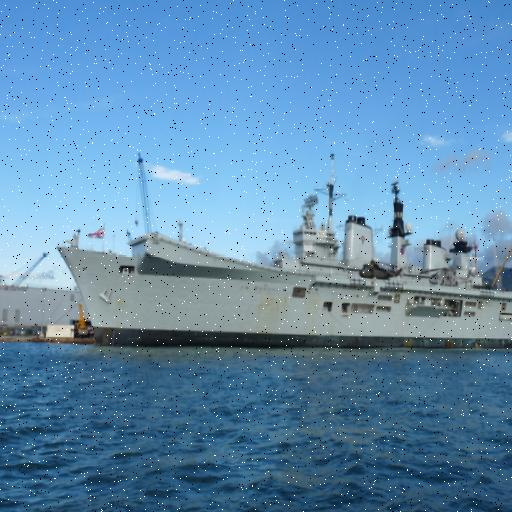Portanaves: (52, 171, 512, 351)
